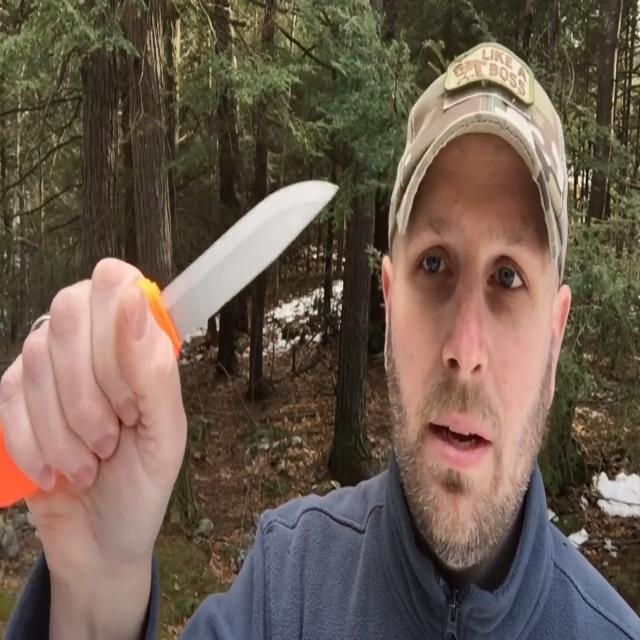knife: (1, 181, 343, 512)
